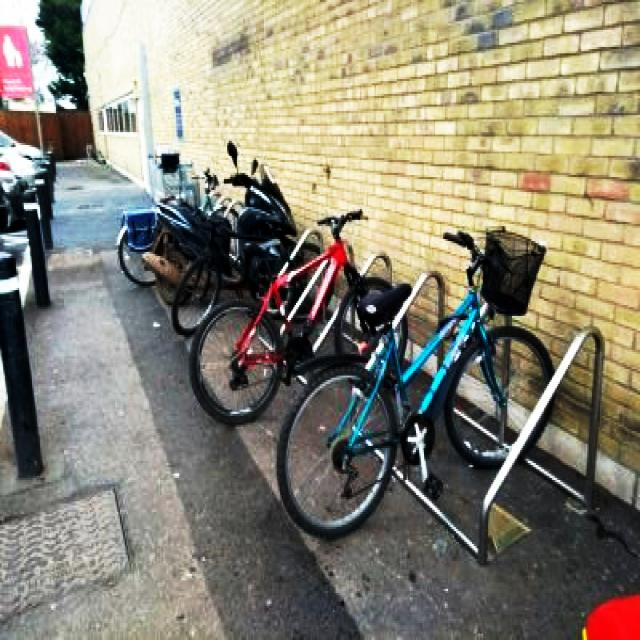bike: (275, 226, 560, 538), (187, 209, 410, 427), (170, 171, 332, 335), (114, 164, 243, 288)
